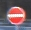No entry: (6, 5, 26, 25)
